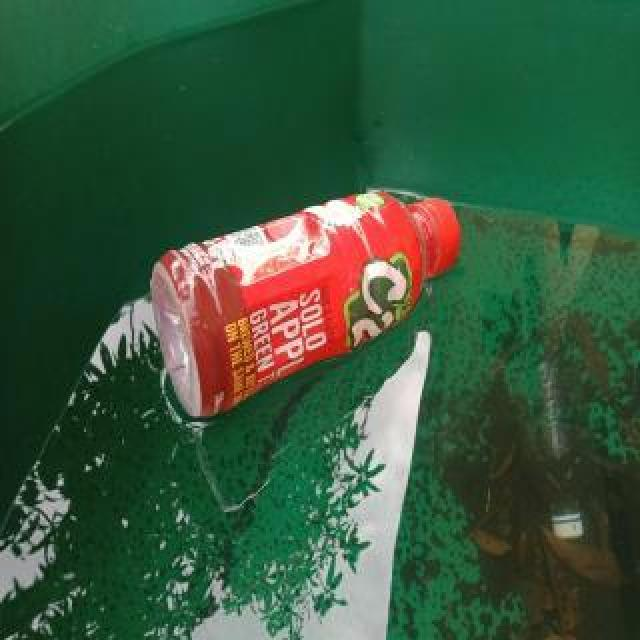bottle: (146, 188, 464, 422)
